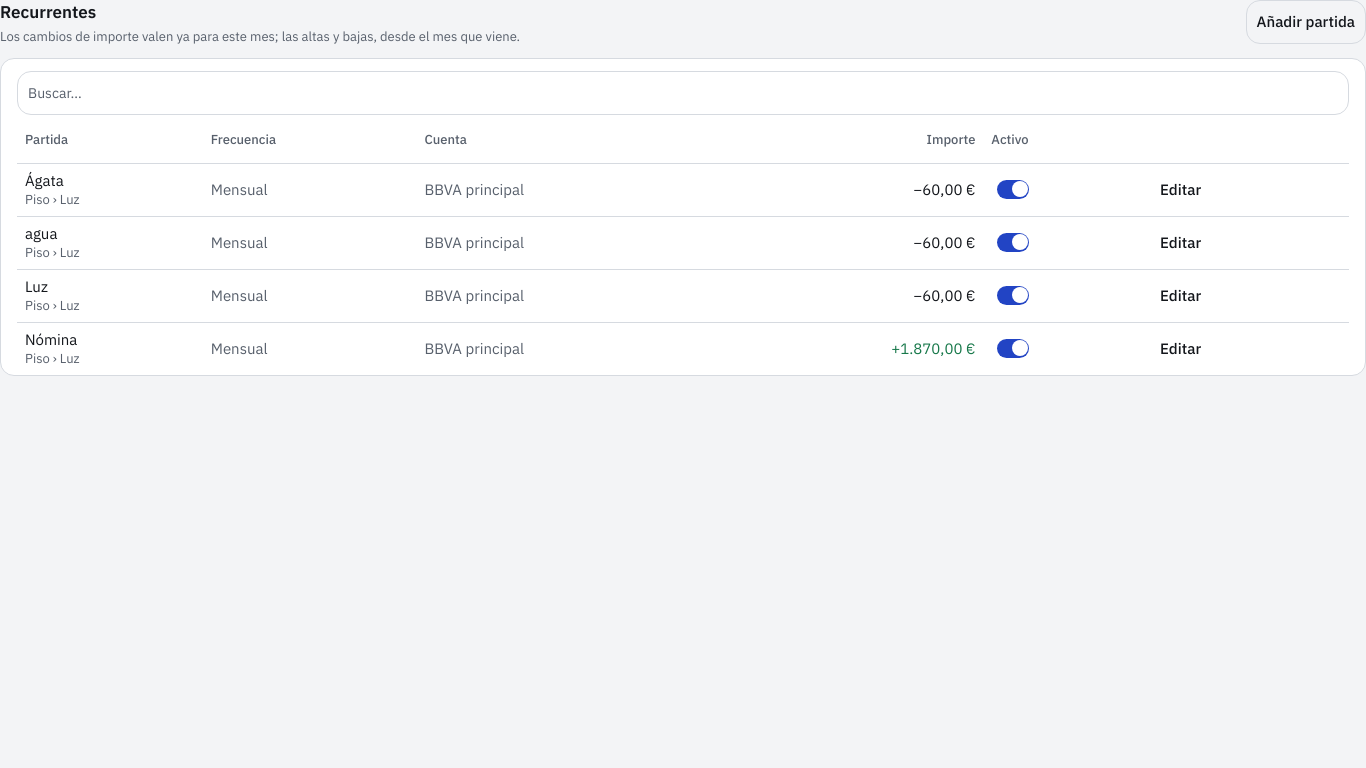
it: RecurringFormDialog › el cuerpo del formulario hace scroll y «Guardar» queda fuera, siempre visible
The width and height of the screenshot is (1366, 768).
Step 1. Click the button with aria-label "Editar Luz" → [1181, 296], box [1149,274,1212,318]
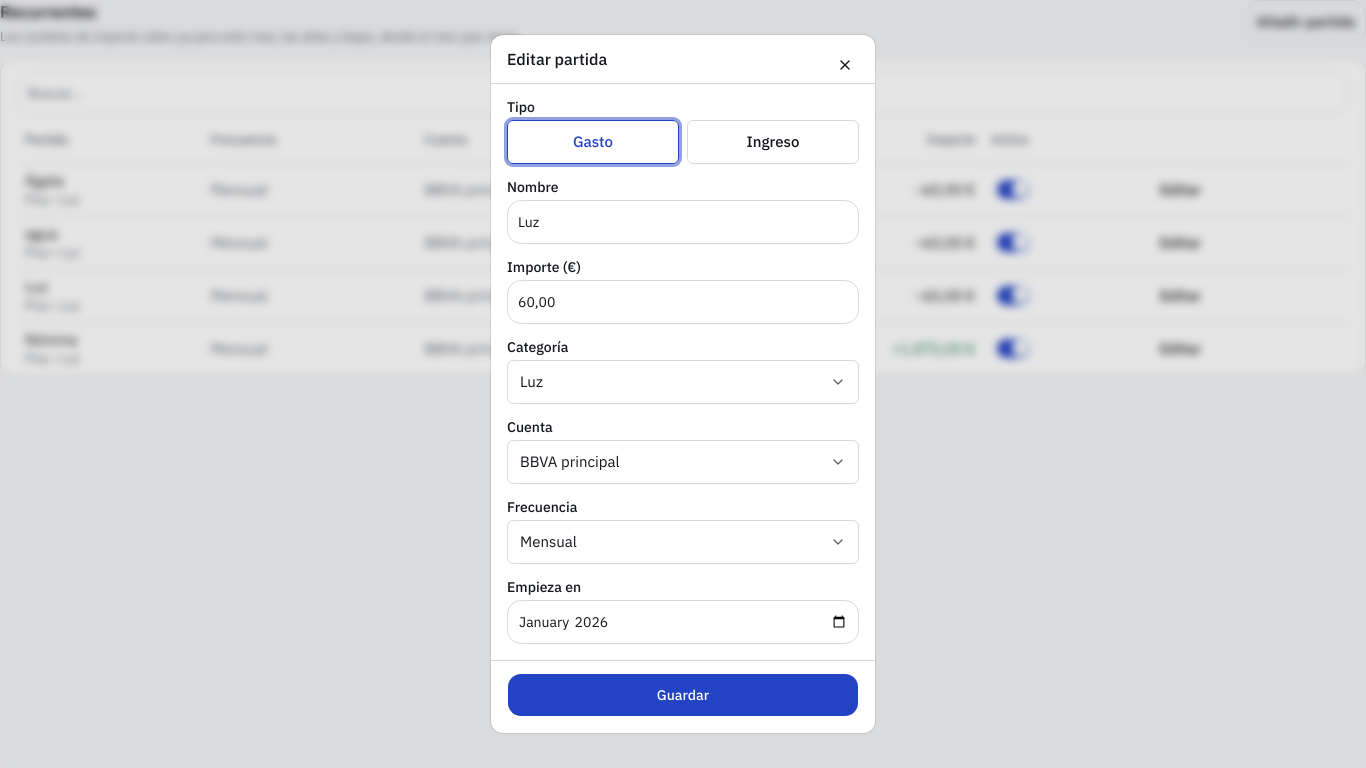
Result: the text "Tipo" is shown at [507,98,535,116]
